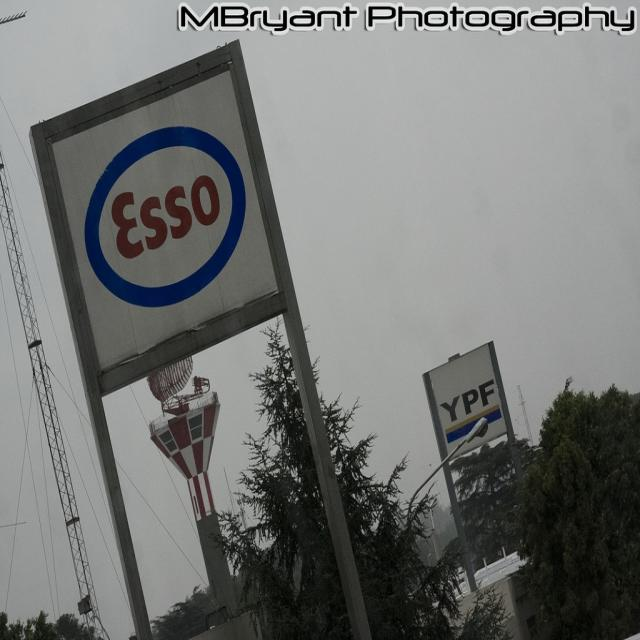esso: (80, 122, 253, 317)
